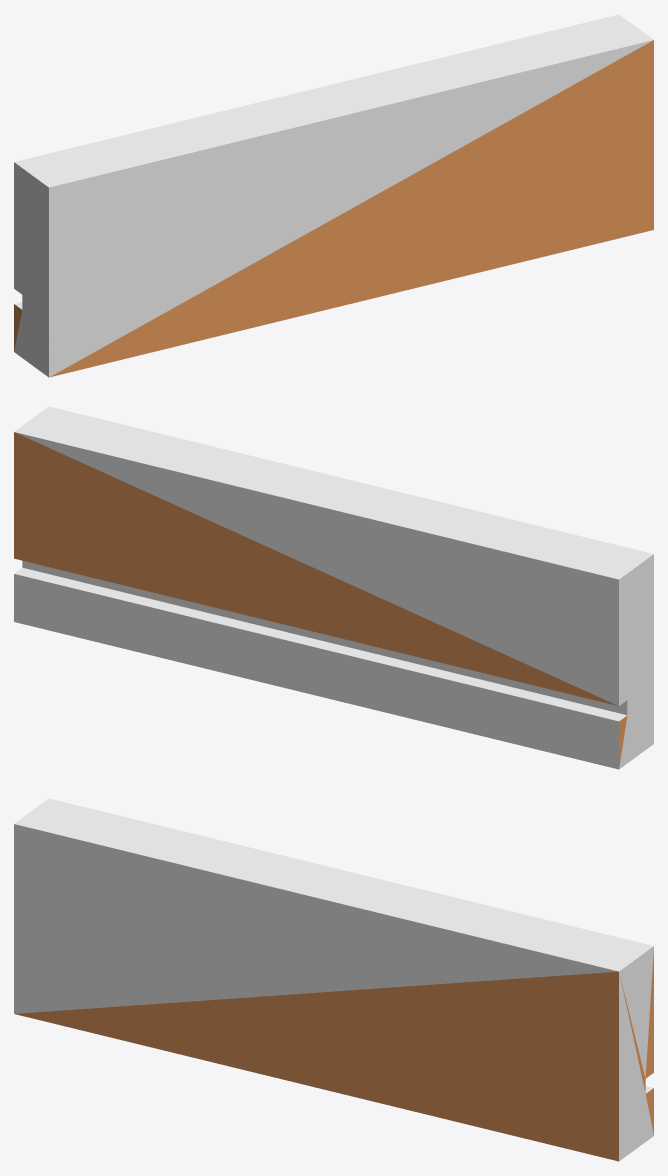
The model's file is original-42-collision.obj.
The picture shows the model from 3 angles, top to bottom: view 1: azimuth 30°, elevation 25°; view 2: azimuth 150°, elevation 25°; view 3: azimuth 330°, elevation 25°; orthographic projection.
Parts seen in each view (by area): view 1: C_-_Tray_Width2/C_-_Tray_Width/mesh11/mesh11-geometry#mesh11-ge; view 2: C_-_Tray_Width2/C_-_Tray_Width/mesh11/mesh11-geometry#mesh11-ge; view 3: C_-_Tray_Width2/C_-_Tray_Width/mesh11/mesh11-geometry#mesh11-ge.
Boxes of the visible parts, left/top/right/bottom form: C_-_Tray_Width2/C_-_Tray_Width/mesh11/mesh11-geometry#mesh11-ge: left=14, top=14, right=653, bottom=377; C_-_Tray_Width2/C_-_Tray_Width/mesh11/mesh11-geometry#mesh11-ge: left=14, top=406, right=653, bottom=769; C_-_Tray_Width2/C_-_Tray_Width/mesh11/mesh11-geometry#mesh11-ge: left=14, top=798, right=653, bottom=1161.
Bounding box in the file's own units: 0.6021 × 0.1806 × 0.0602.
